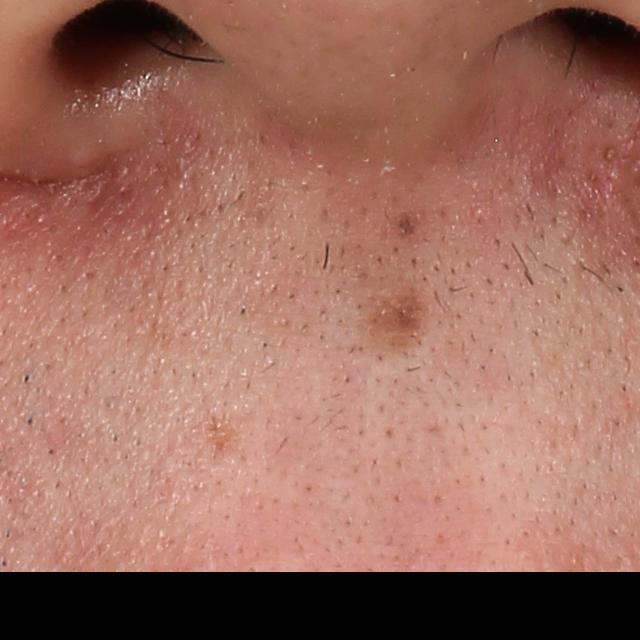nevus: (363, 285, 434, 363), (392, 215, 417, 239)
